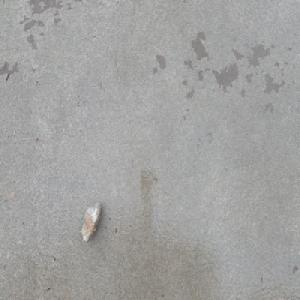Rock: (80, 200, 101, 245)
